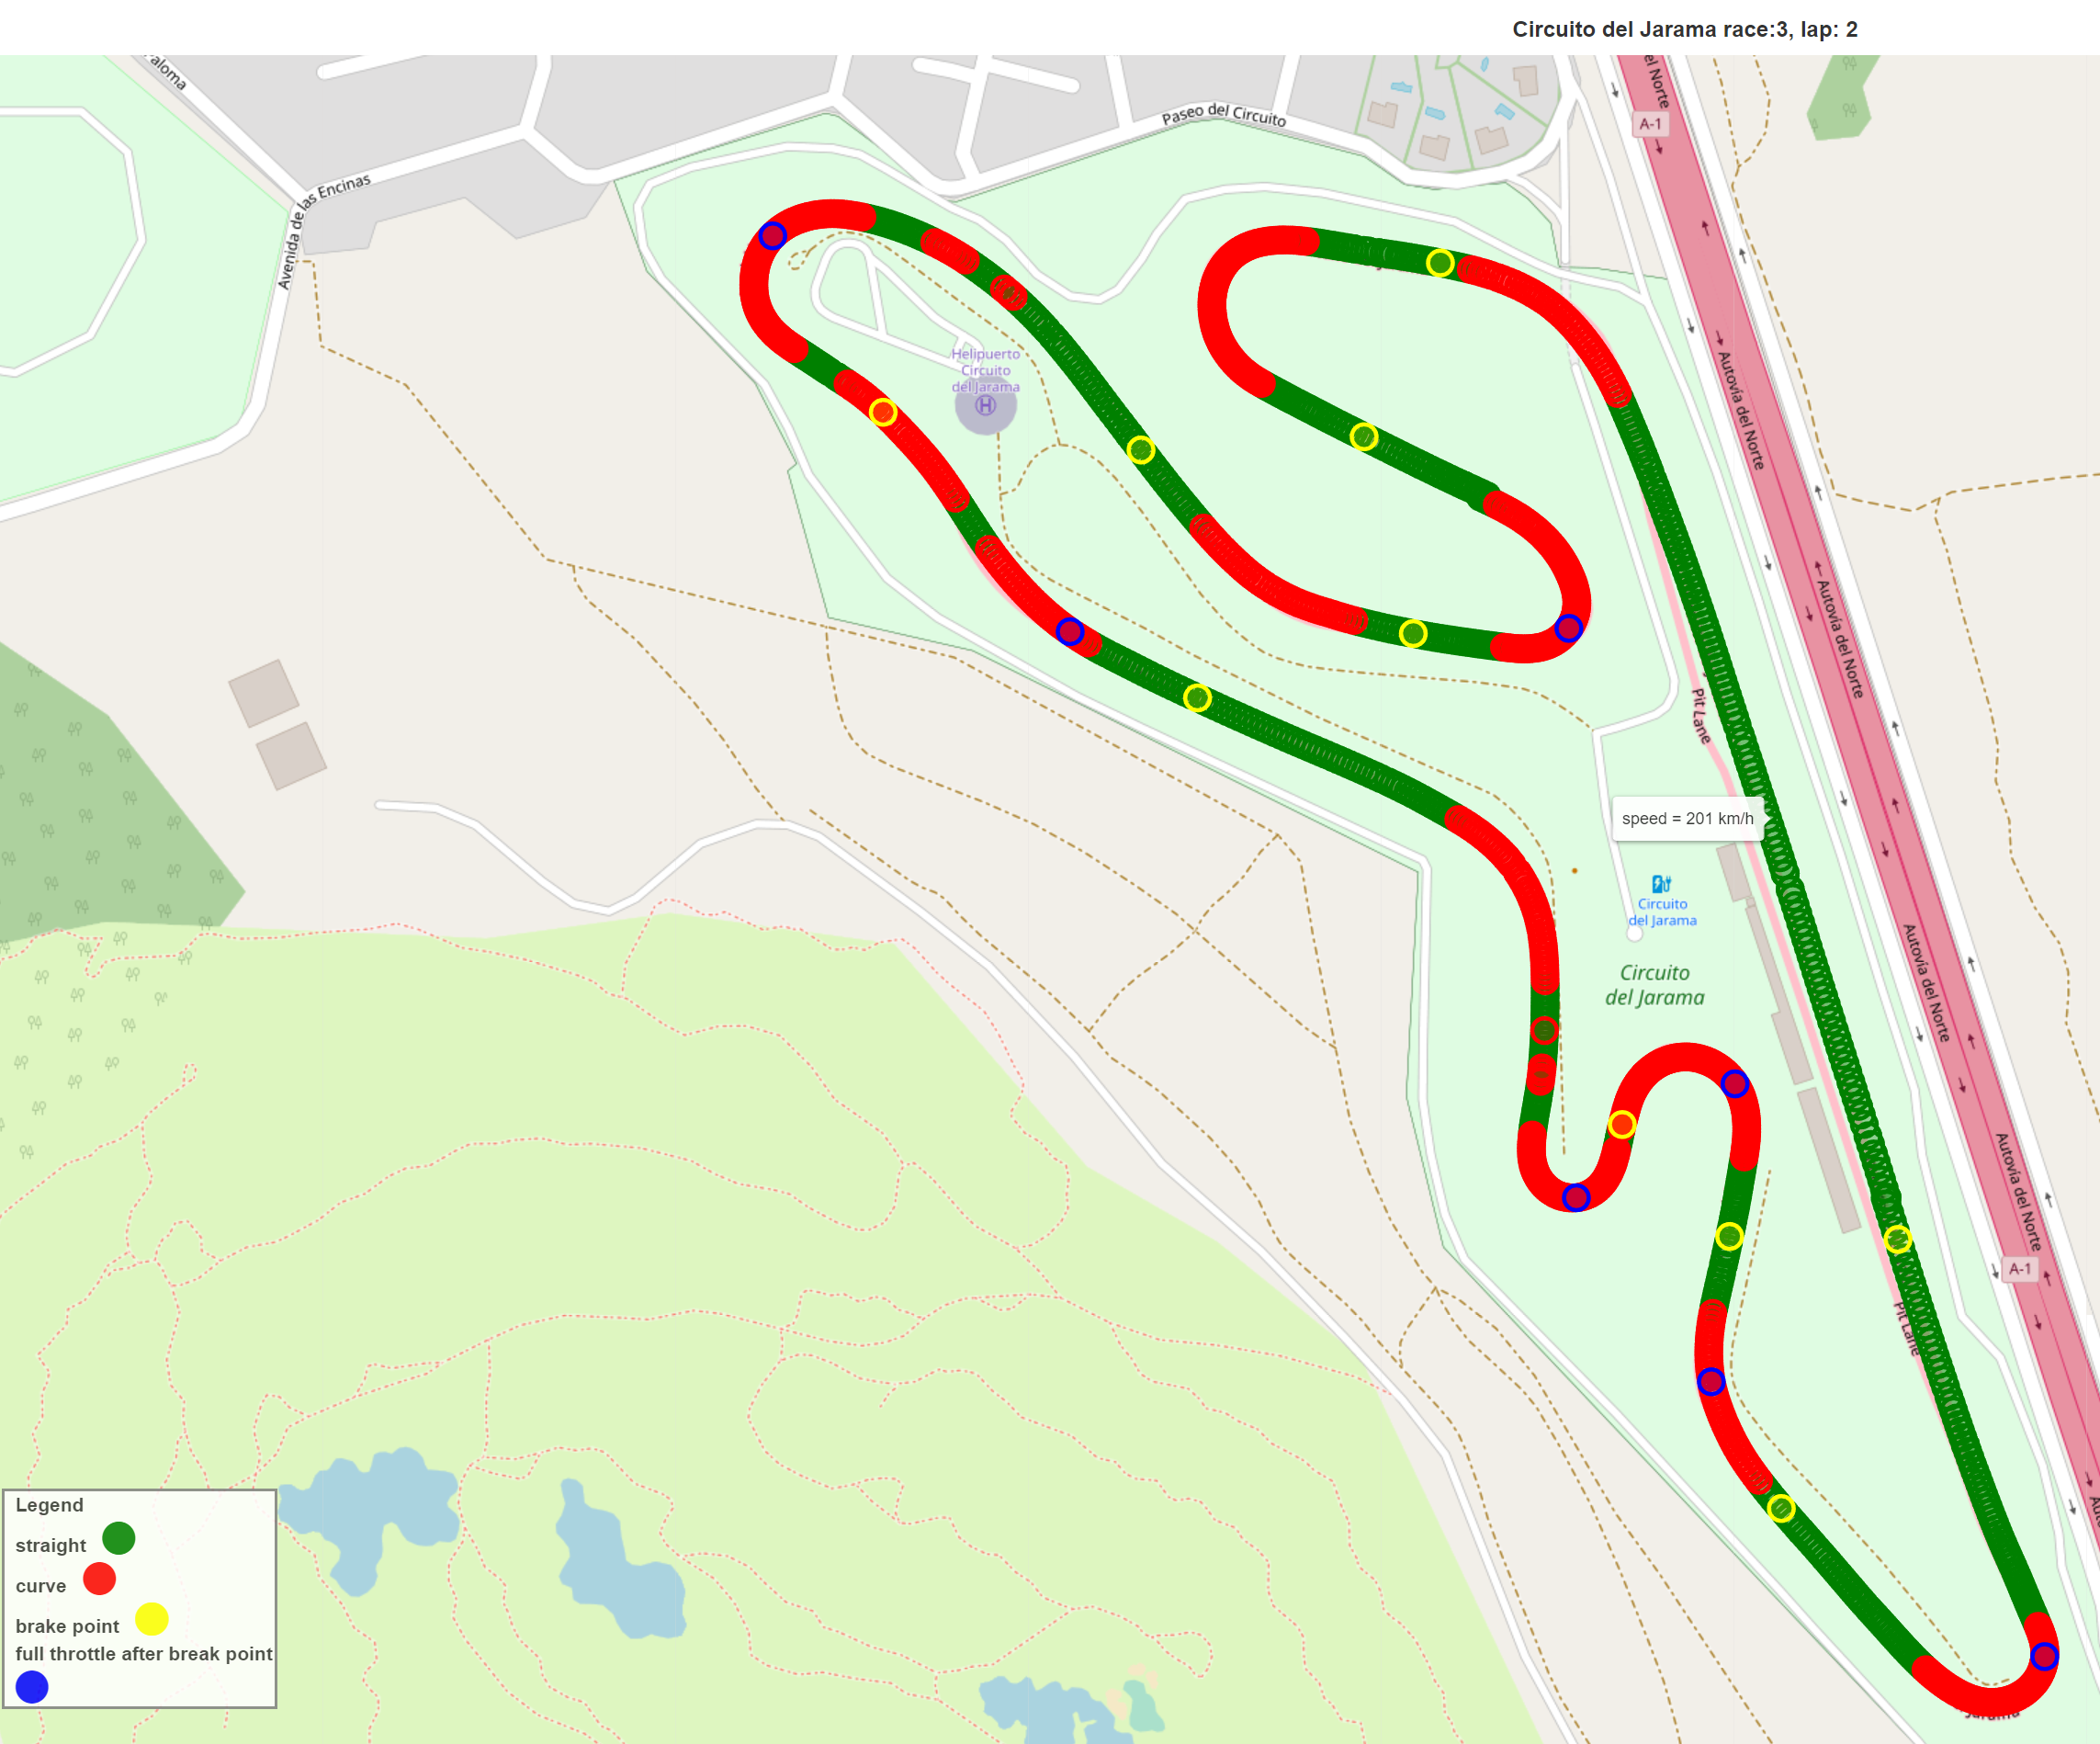

This screenshot's page, from the dashboard's own definition file:
{"tool":"tableau","page":{"name":"Dashboard 2","canvas":[1000,800],"ordinal":1},"visuals":[{"type":"worksheet","title":"Sheet 2","mark":"Circle","rows":["circuitname","userProfileName","lat"],"cols":["lon"],"box":[8,8,824,392]},{"type":"legend","title":"Sheet 2","param":"[federated.1ovtjj11v7gshn1c392m20qye2kd].[none:vsd:qk]","box":[832,8,160,65]},{"type":"legend","title":"Sheet 2","param":"[federated.1ovtjj11v7gshn1c392m20qye2kd].[none:elevation:qk]","box":[832,73,160,106]},{"type":"legend","title":"Sheet 4","param":"[federated.1ovtjj11v7gshn1c392m20qye2kd].[bestLap, circuitname, elevation and 3 ","box":[832,179,160,46]},{"type":"legend","title":"Sheet 4","param":"[federated.1ovtjj11v7gshn1c392m20qye2kd].[none:userProfileName:nk]","box":[832,225,160,126]},{"type":"worksheet","title":"Sheet 3","mark":"Automatic","rows":["elevation"],"cols":["circuitname","userProfileName","vsd"],"box":[8,400,412,392]},{"type":"worksheet","title":"Sheet 4","mark":"Automatic","rows":["vsd"],"cols":["elevation"],"box":[420,400,412,392]}]}

Visuals, with their boxes on the page's 1000x800 design canvas (x1, y1, x2, y2). These are canvas units, not pixel positions in the 2100x1744 screenshot, which may show the page scaled, cropped or inside an application window:
"Sheet 2" worksheet (Circle marks): 8, 8, 832, 400
"Sheet 2" legend: 832, 8, 992, 73
"Sheet 2" legend: 832, 73, 992, 179
"Sheet 4" legend: 832, 179, 992, 225
"Sheet 4" legend: 832, 225, 992, 351
"Sheet 3" worksheet: 8, 400, 420, 792
"Sheet 4" worksheet: 420, 400, 832, 792
